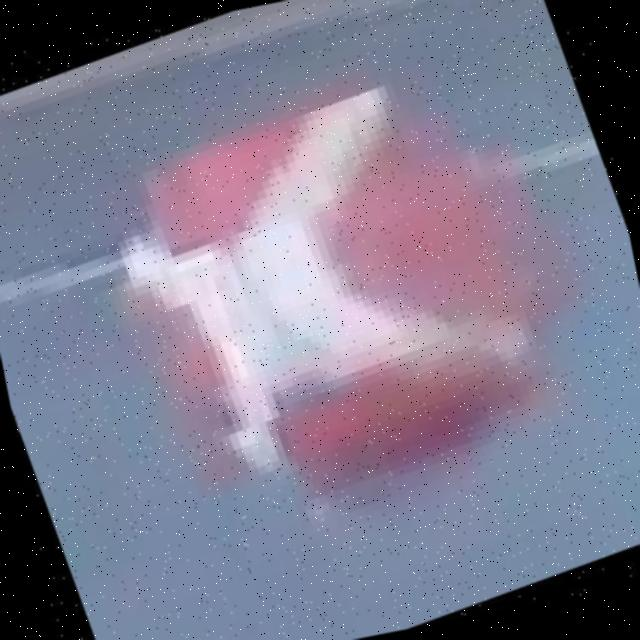ball: (27, 6, 640, 603)
